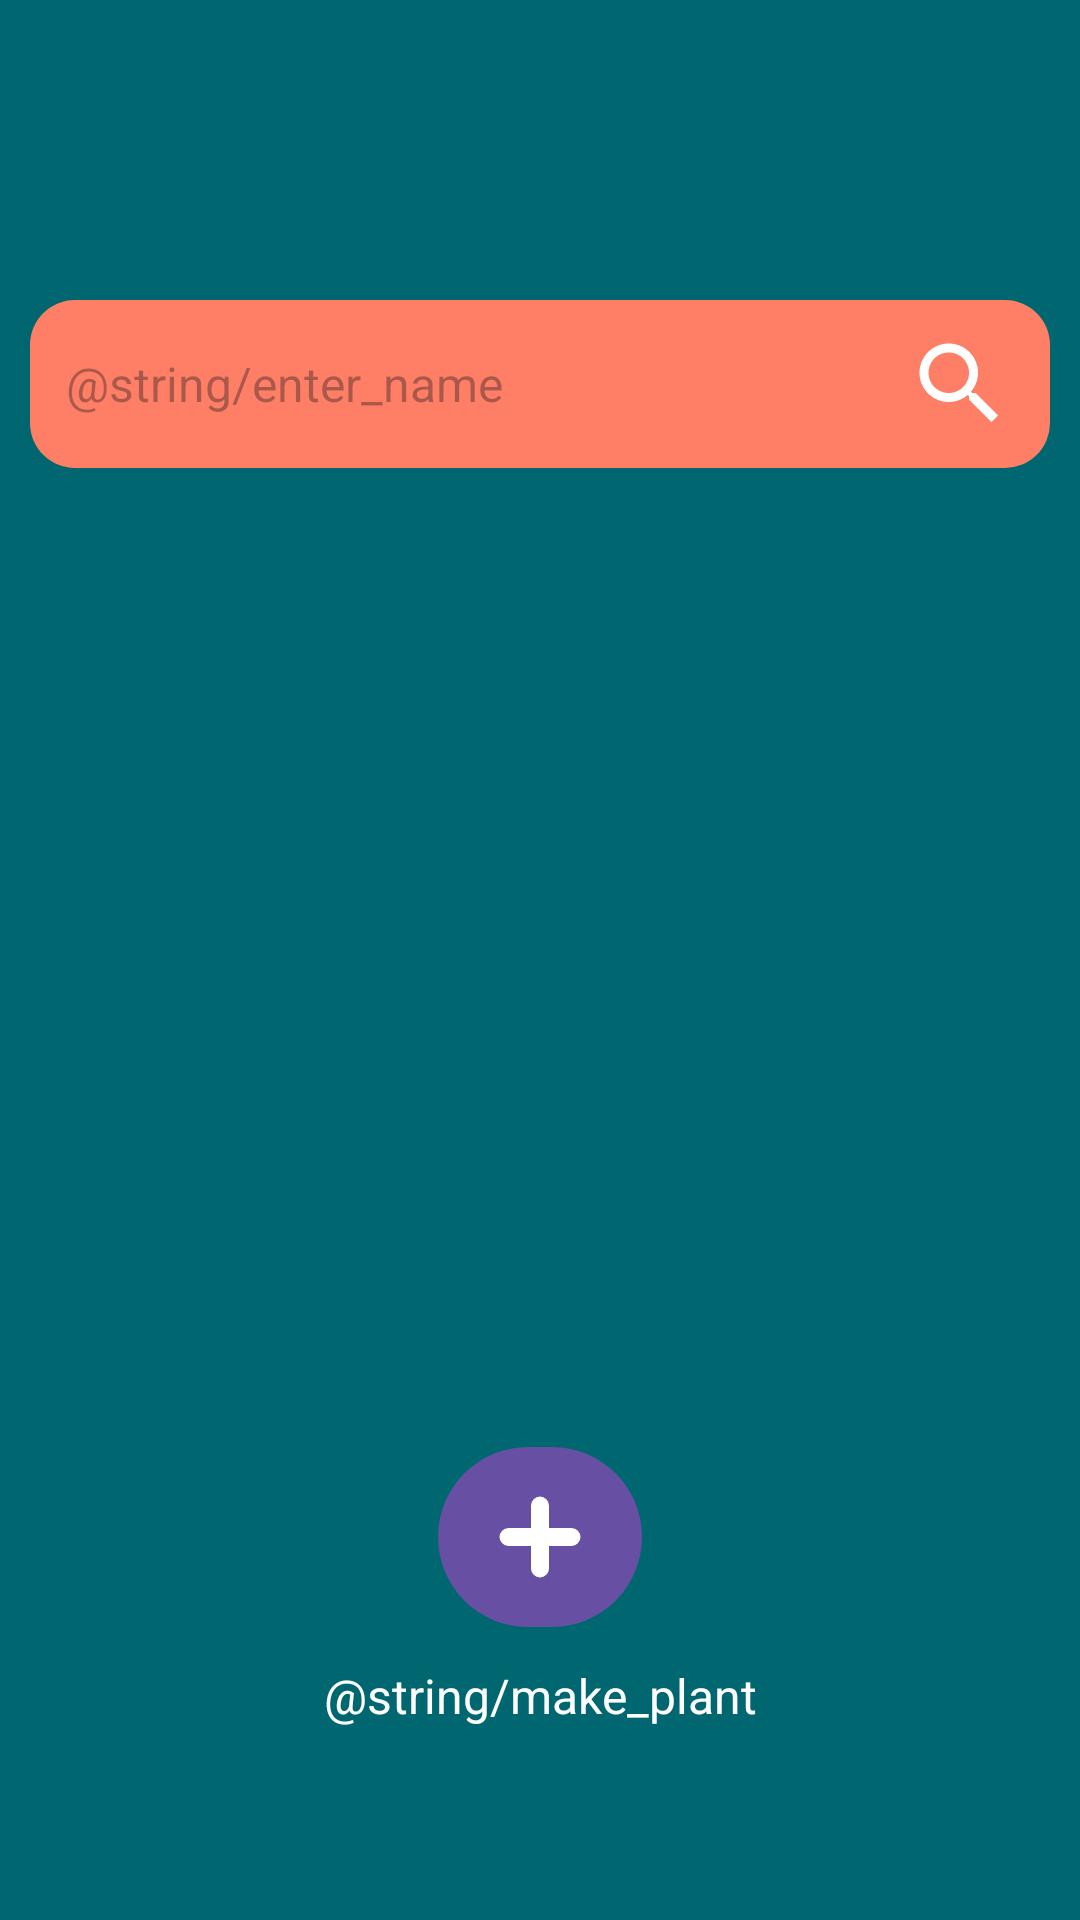

Icon click points for this 1080 × 1920 phone screenshot, format (x,y):
plus item: (540,1537)
search: (958,382)
